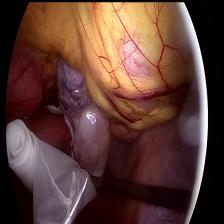Grasper: (88, 172, 102, 190)
Specimen Bag: (4, 109, 97, 224)
